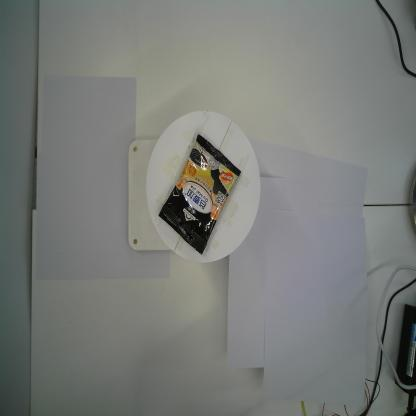Instant Drink: (158, 132, 242, 256)
